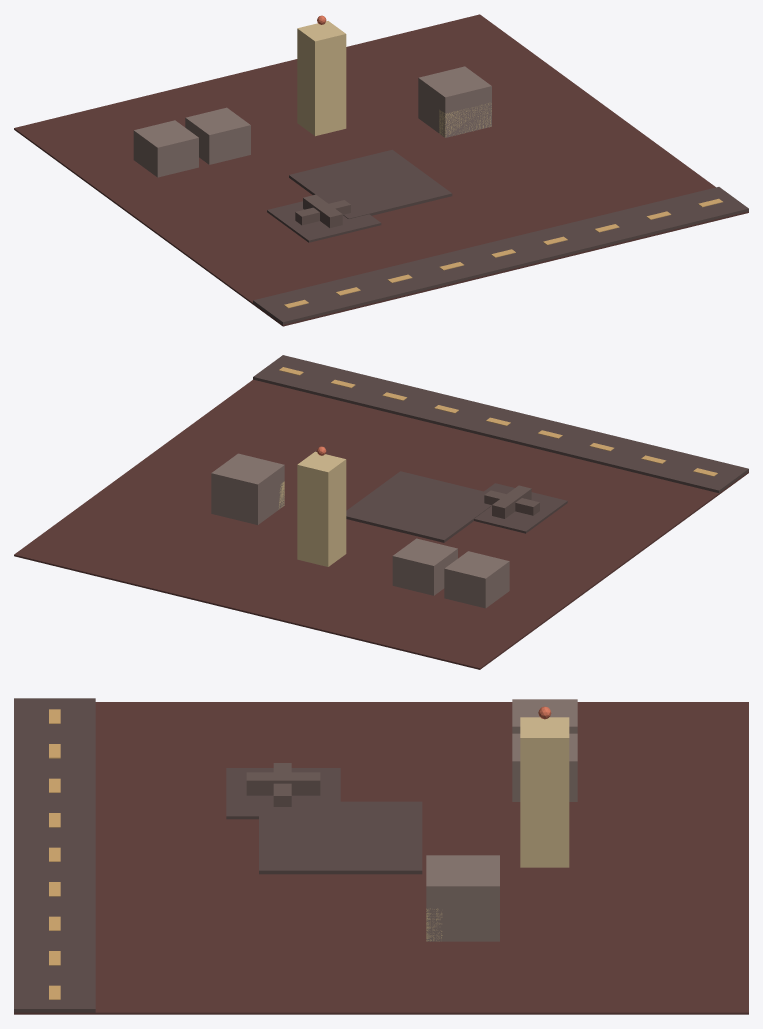
Rendered from stage_06.glb.
The picture shows the model from 3 angles, top to bottom: view 1: azimuth 30°, elevation 25°; view 2: azimuth 150°, elevation 25°; view 3: azimuth 270°, elevation 25°; orthographic projection. The views are drawn at different scales.
Visible parts, largest first — view 1: geometry_0; view 2: geometry_0; view 3: geometry_0.
Part boxes in pixels (left/top/right/bottom): geometry_0: left=14, top=14, right=748, bottom=326; geometry_0: left=14, top=355, right=748, bottom=669; geometry_0: left=14, top=698, right=748, bottom=1014.
Size of the model in its own units: 9 by 2.06 by 9.
